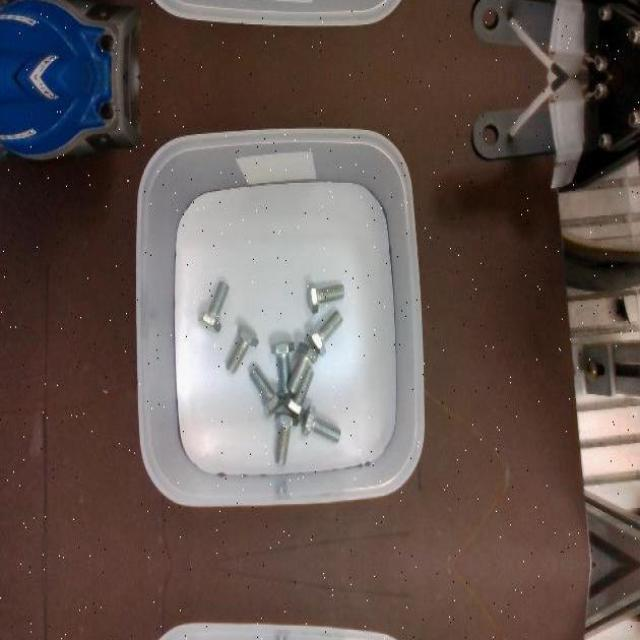screw: (248, 366, 285, 417), (306, 310, 344, 357), (287, 342, 318, 396), (198, 280, 230, 332), (226, 323, 259, 373), (302, 402, 341, 443), (274, 411, 301, 467), (307, 282, 344, 315)
